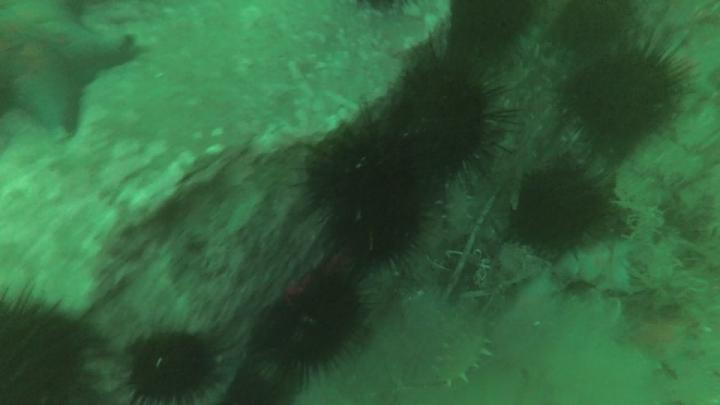echinus: (312, 132, 425, 264), (571, 57, 677, 146), (266, 281, 362, 378), (400, 81, 495, 175), (515, 164, 604, 257), (3, 309, 89, 405), (131, 338, 215, 399), (450, 2, 533, 58)
holothurian: (436, 330, 493, 384)
starfish: (1, 1, 133, 131)
